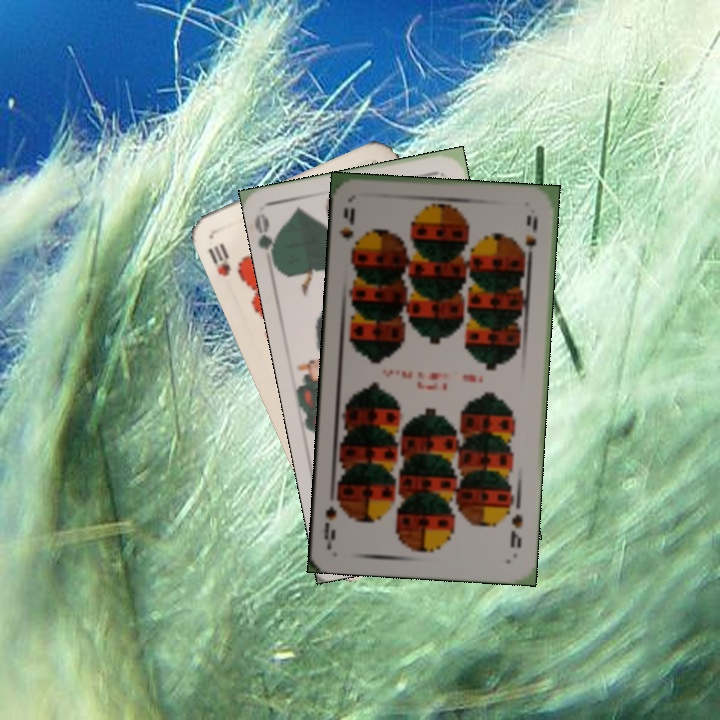GO: (251, 211, 282, 270)
H10: (204, 239, 234, 279)
S9: (336, 203, 362, 257), (506, 510, 525, 550)
